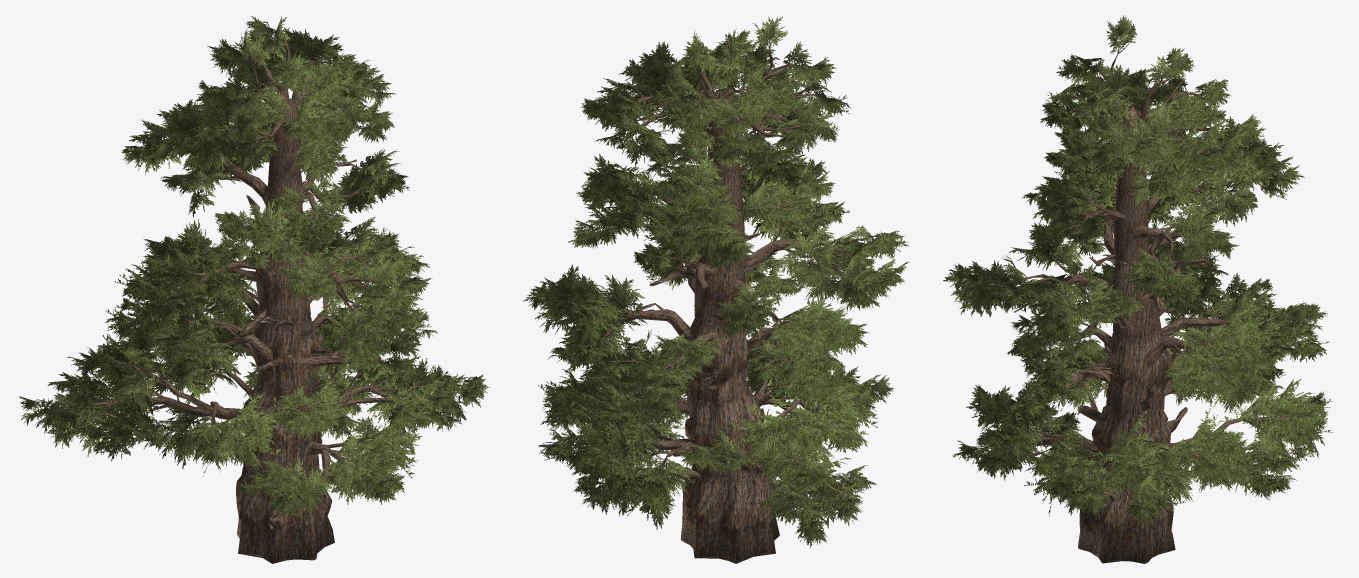
File: juniper.glb
3 renders of one model, left to right at view 1: azimuth 30°, elevation 25°; view 2: azimuth 150°, elevation 25°; view 3: azimuth 270°, elevation 25°, orthographic. The views are drawn at different scales.
Visible parts, largest first — view 1: WesternJuniper_Med_Leaves_WesternJuniperNeedles_1_0, WesternJuniper_Med_Branches_WesternJuniperBark_0, WesternJuniper_Med_Fronds_WesternJuniperBranches_0; view 2: WesternJuniper_Med_Leaves_WesternJuniperNeedles_1_0, WesternJuniper_Med_Branches_WesternJuniperBark_0, WesternJuniper_Med_Fronds_WesternJuniperBranches_0; view 3: WesternJuniper_Med_Leaves_WesternJuniperNeedles_1_0, WesternJuniper_Med_Branches_WesternJuniperBark_0, WesternJuniper_Med_Fronds_WesternJuniperBranches_0.
Boxes of the visible parts, x1=… form: WesternJuniper_Med_Leaves_WesternJuniperNeedles_1_0: x1=19, y1=16, x2=489, y2=517; WesternJuniper_Med_Branches_WesternJuniperBark_0: x1=34, y1=28, x2=464, y2=563; WesternJuniper_Med_Fronds_WesternJuniperBranches_0: x1=34, y1=21, x2=478, y2=510; WesternJuniper_Med_Leaves_WesternJuniperNeedles_1_0: x1=523, y1=16, x2=909, y2=547; WesternJuniper_Med_Branches_WesternJuniperBark_0: x1=544, y1=27, x2=896, y2=563; WesternJuniper_Med_Fronds_WesternJuniperBranches_0: x1=539, y1=26, x2=900, y2=533; WesternJuniper_Med_Leaves_WesternJuniperNeedles_1_0: x1=943, y1=15, x2=1332, y2=527; WesternJuniper_Med_Branches_WesternJuniperBark_0: x1=974, y1=23, x2=1303, y2=563; WesternJuniper_Med_Fronds_WesternJuniperBranches_0: x1=953, y1=26, x2=1320, y2=518.
Bounding box in the file's own units: 12.37 × 15.94 × 11.38.
4 materials, 4 textured.
